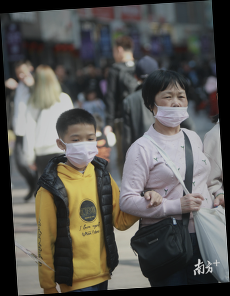with_mask: (151, 87, 190, 129), (64, 131, 98, 169)
